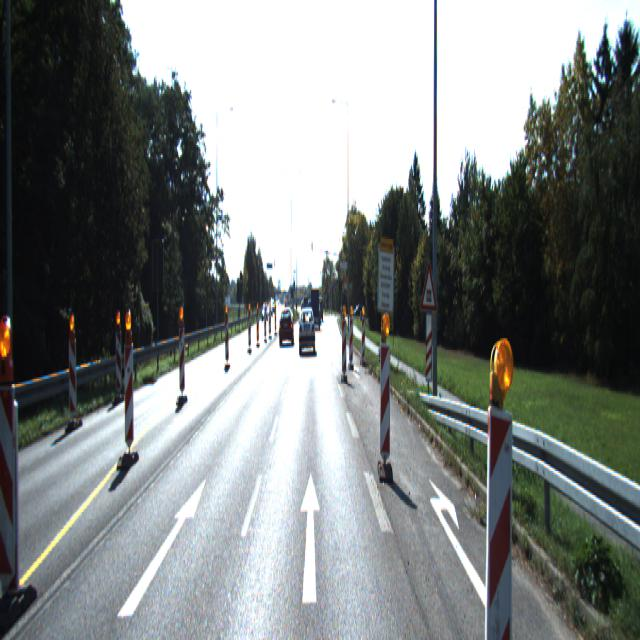Car: (299, 312, 316, 354), (278, 309, 294, 348), (310, 288, 320, 329)
